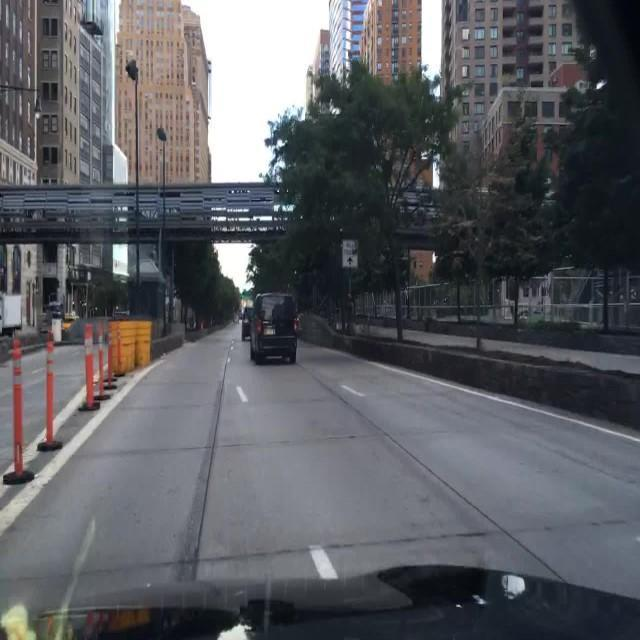normal: (230, 283, 313, 377)
